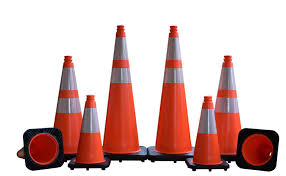cones: (149, 25, 199, 159), (99, 25, 147, 161), (50, 55, 93, 156), (214, 54, 247, 162), (190, 93, 230, 175), (74, 95, 112, 170)
